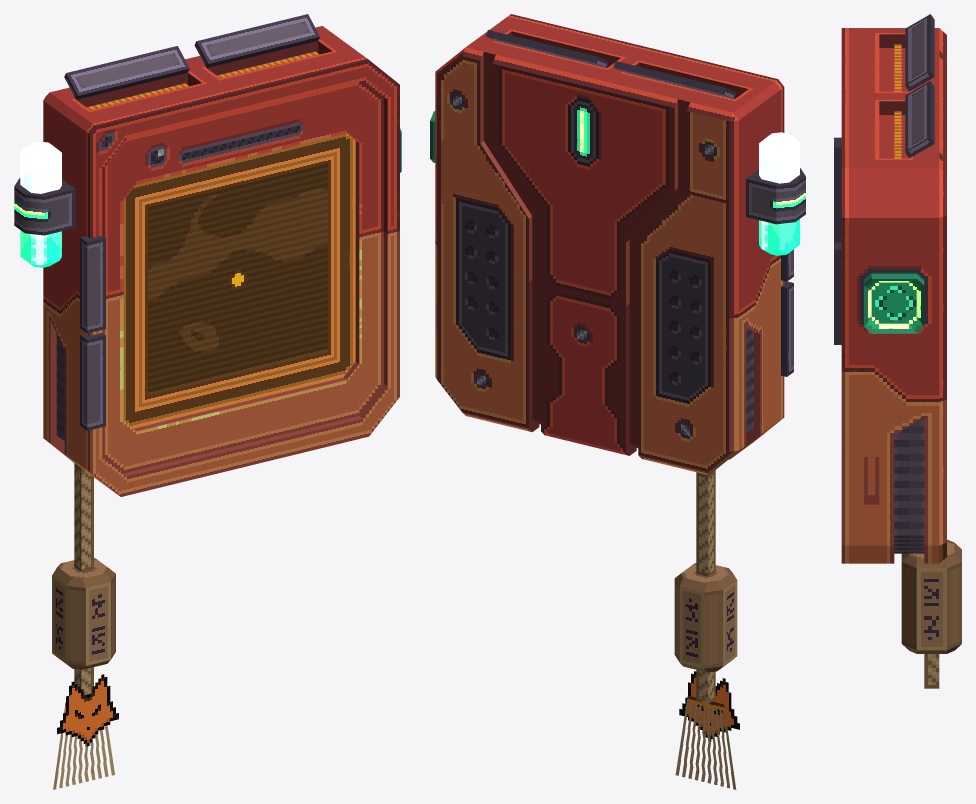
Rendered from device_1.gltf.
3 renders of one model, left to right at view 1: azimuth 30°, elevation 25°; view 2: azimuth 150°, elevation 25°; view 3: azimuth 270°, elevation 25°, orthographic. The views are drawn at different scales.
Visible parts, largest first — view 1: Device 1; view 2: Device 1; view 3: Device 1.
Boxes of the visible parts, <box> form: Device 1: <box>14,14,401,789</box>; Device 1: <box>430,14,805,789</box>; Device 1: <box>834,14,961,688</box>.
Bounding box in the file's own units: 3.69 × 6.87 × 1.06.
Materials: 2 (2 with a texture image).
